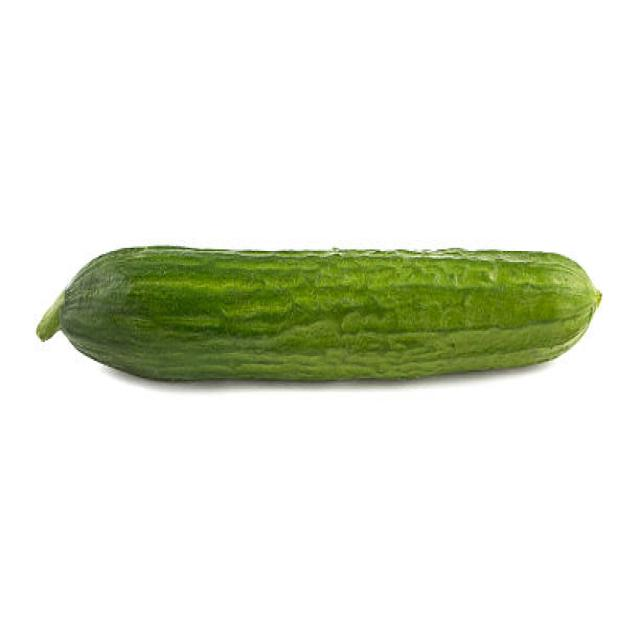cucumber: (63, 245, 598, 382)
